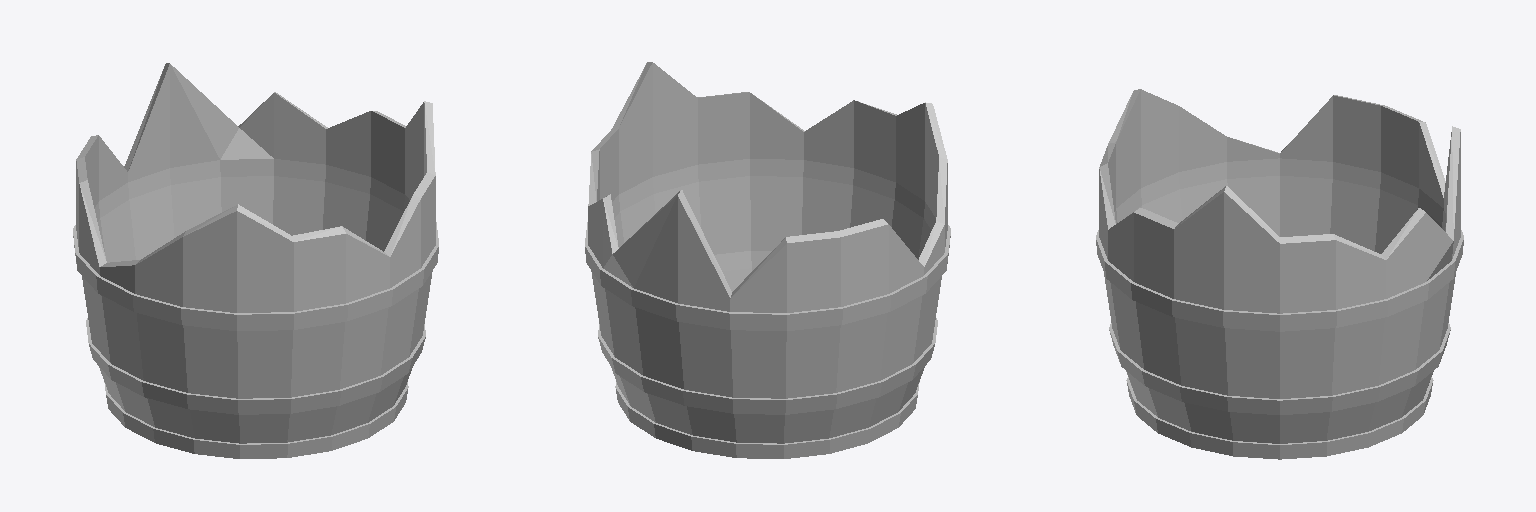
File: Half Barrel.obj
3 renders of one model, left to right at view 1: azimuth 30°, elevation 25°; view 2: azimuth 150°, elevation 25°; view 3: azimuth 270°, elevation 25°, orthographic.
Parts seen in each view (by area): view 1: Half_Barrel; view 2: Half_Barrel; view 3: Half_Barrel.
Boxes of the visible parts, box(x1,y1,x2,y2) form: Half_Barrel: box(73, 63, 438, 458); Half_Barrel: box(585, 62, 950, 458); Half_Barrel: box(1096, 89, 1463, 459).
Size of the model in its own units: 81.1 by 67.89 by 81.1.